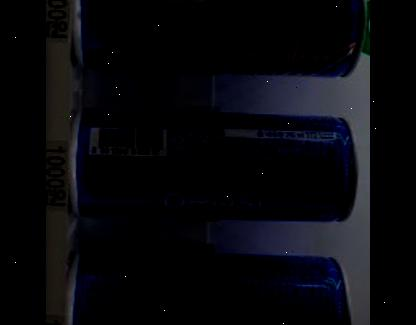Can: (67, 109, 358, 222), (69, 247, 354, 325), (76, 0, 367, 74)
